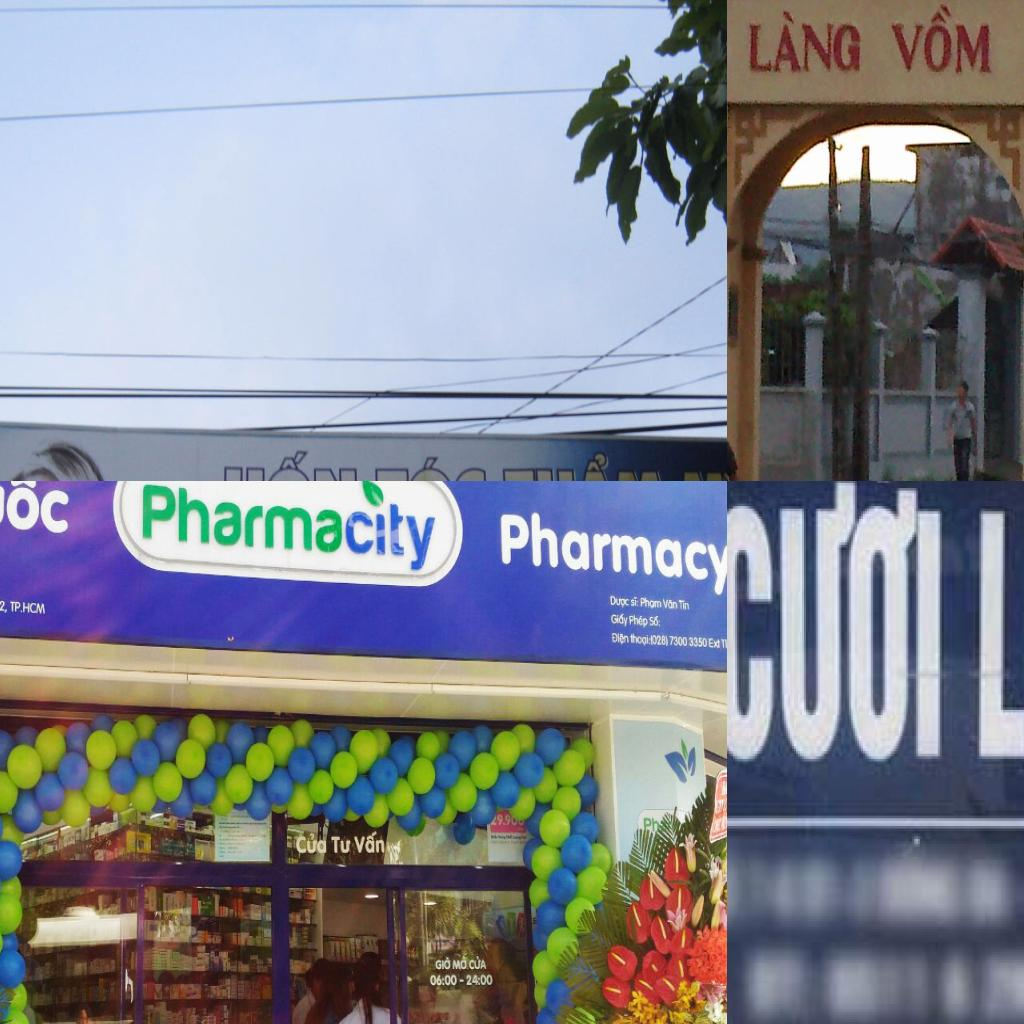text: (727, 481, 959, 774), (140, 481, 436, 574), (495, 510, 727, 599), (969, 481, 1024, 771), (888, 0, 997, 80), (745, 7, 865, 78), (500, 450, 671, 481), (220, 448, 361, 481), (0, 481, 71, 539), (373, 451, 491, 481), (353, 827, 387, 859), (293, 830, 328, 860), (651, 632, 709, 650), (9, 599, 47, 617), (330, 832, 352, 856), (428, 974, 459, 988), (646, 613, 665, 632), (468, 955, 488, 972), (630, 632, 652, 647), (464, 976, 494, 987), (434, 954, 452, 972), (610, 612, 630, 628), (630, 612, 650, 628), (609, 594, 630, 608), (608, 632, 630, 645), (452, 955, 468, 972), (641, 596, 663, 608), (662, 599, 679, 613), (709, 633, 722, 651), (630, 594, 642, 610), (678, 599, 692, 612), (0, 599, 9, 614), (721, 634, 727, 651)
